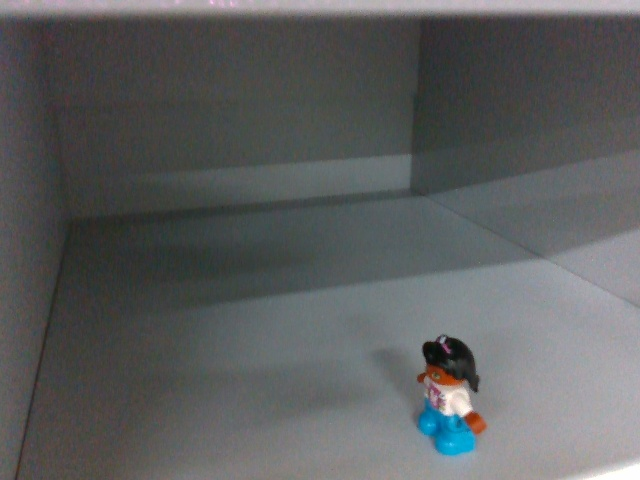people: (410, 328, 490, 455)
